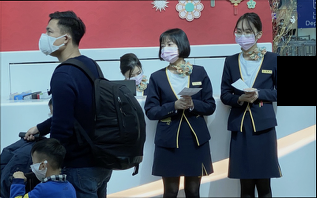with_mask: (37, 26, 64, 57), (235, 26, 257, 51), (160, 40, 181, 65), (124, 68, 144, 86), (30, 158, 45, 181)
